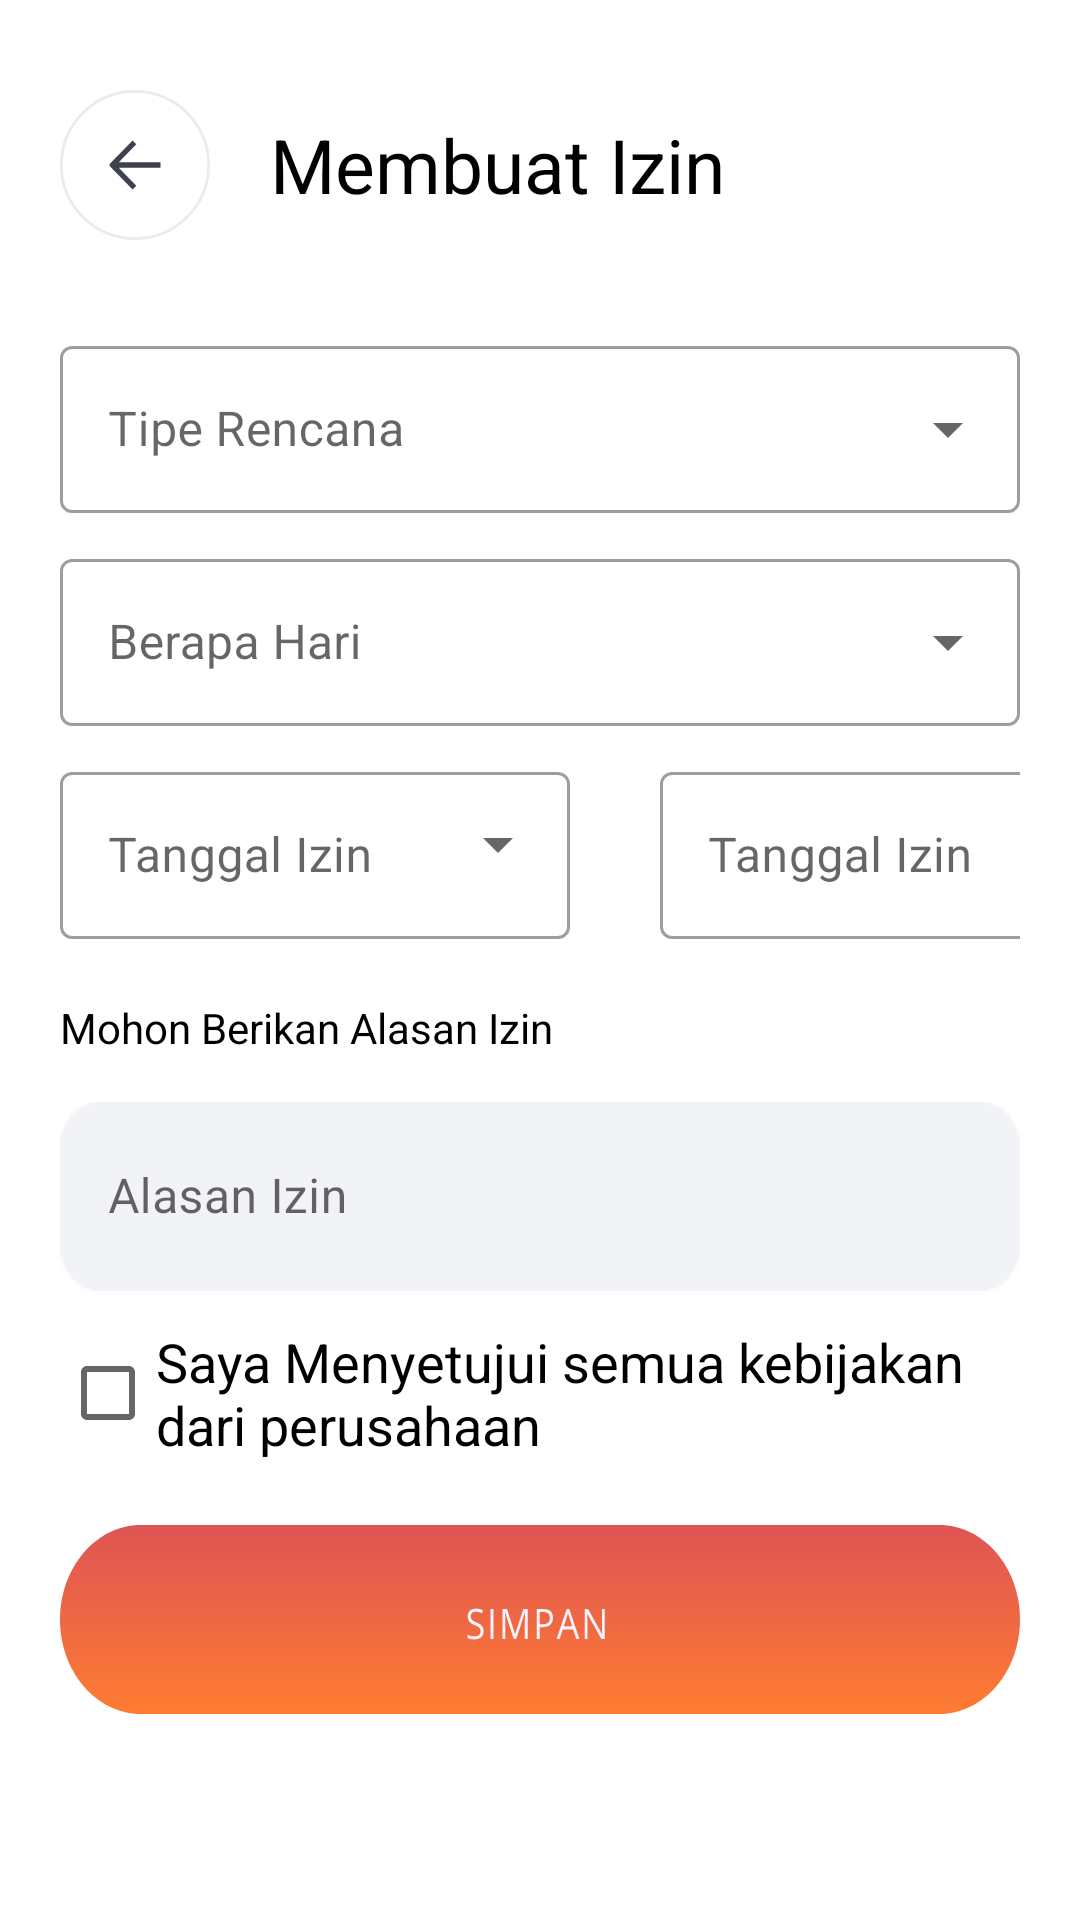

Locate icon controls on the screen. Image size 1080×1920, boxes as BBox(x1, y1, x2, y2).
back: BBox(109, 140, 161, 190)
